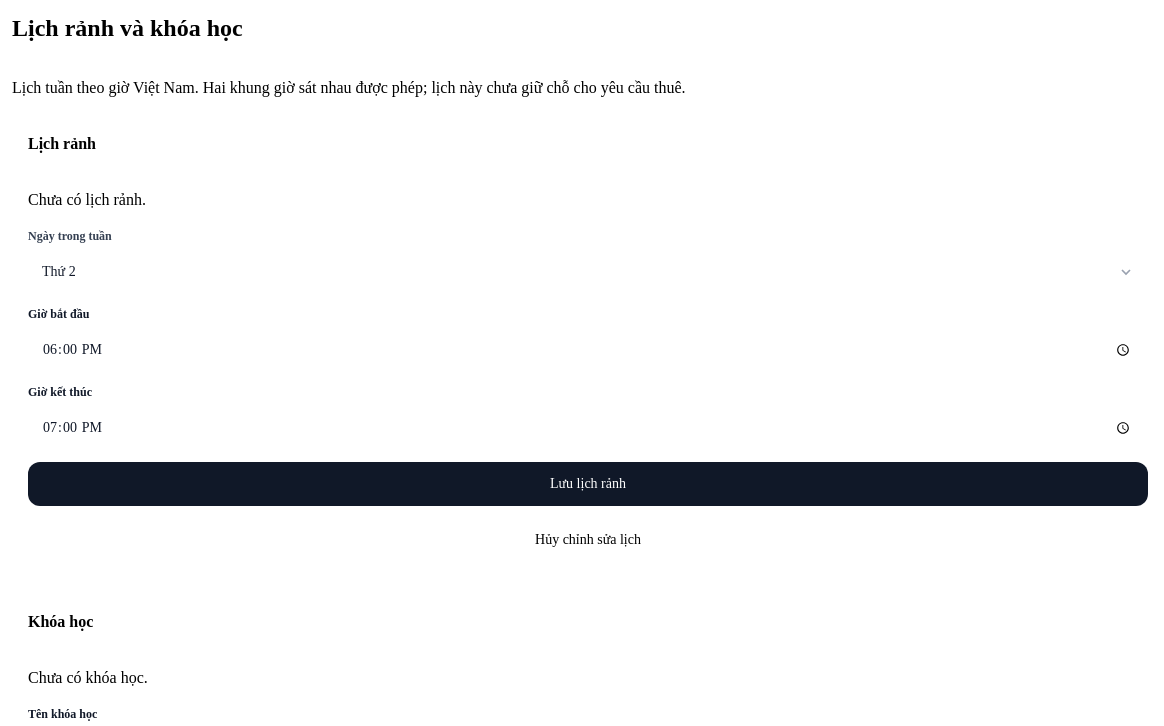
shows overlap feedback and keeps edited times
This screenshot has width=1164, height=726.
Replace the text in the time field labelled "Giờ bắt đầu" with "18:30": (588, 350) [28, 328, 1148, 372]
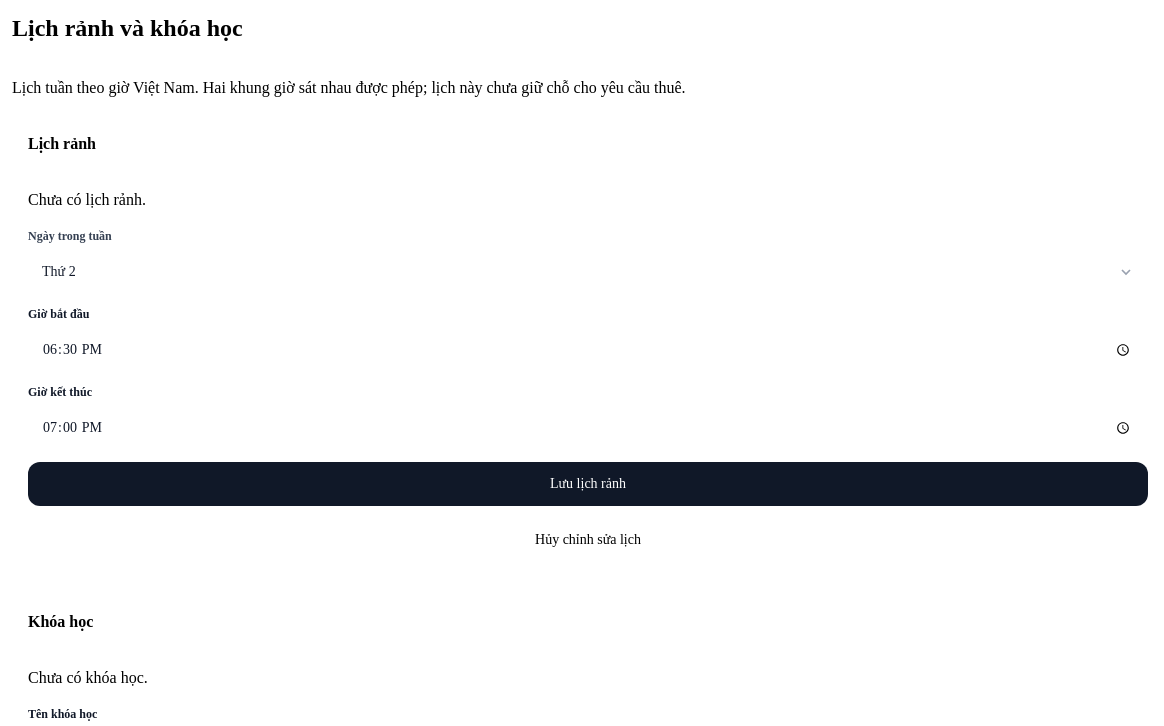
Click the button "Lưu lịch rảnh": (588, 484) [28, 462, 1148, 506]
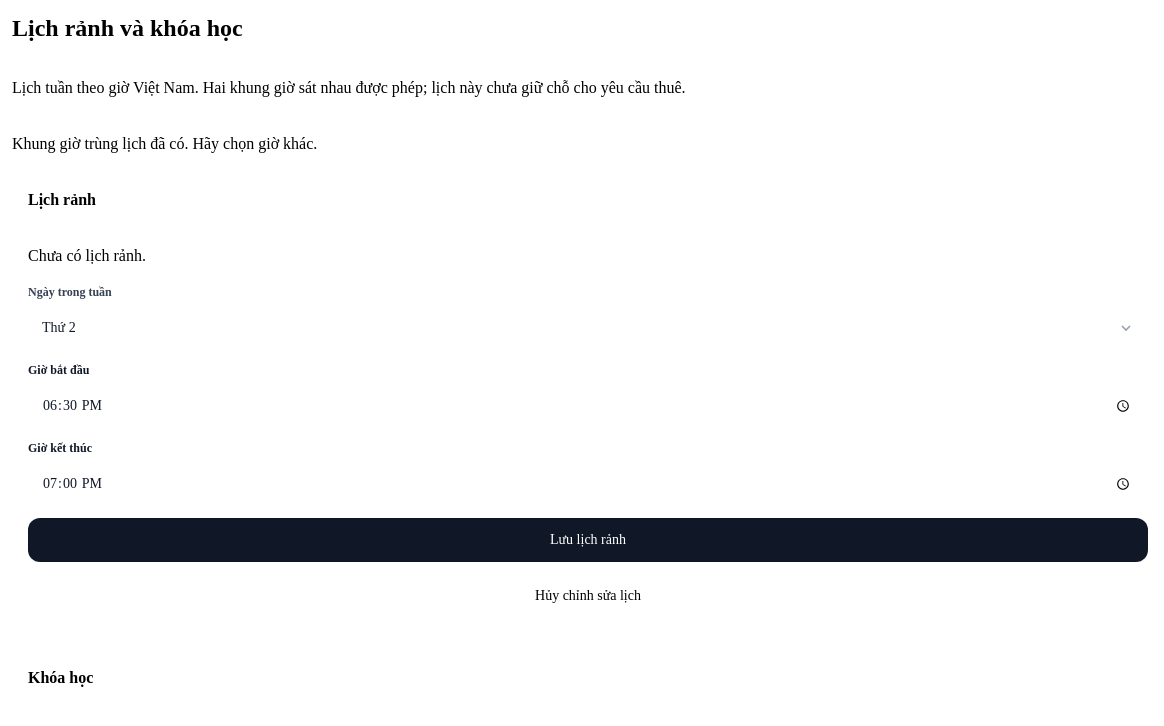
Result: the message shows "Khung giờ trùng" at [12, 135, 317, 152]
